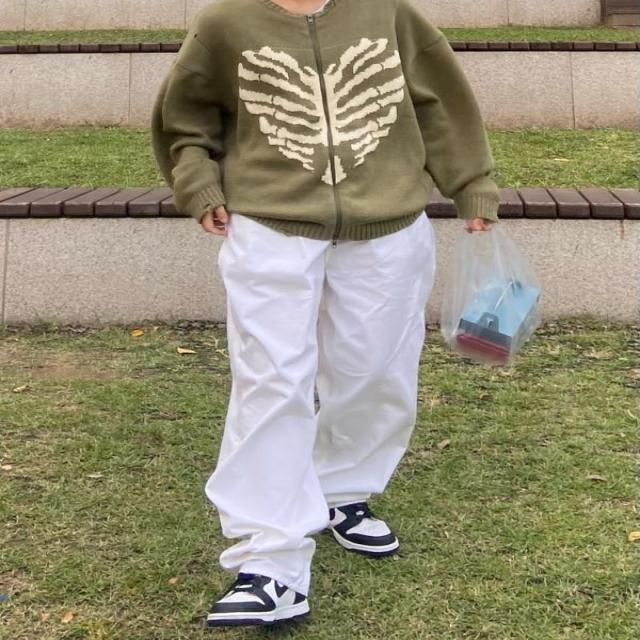cardigan: (152, 1, 498, 242)
cottonpants: (199, 205, 435, 608)
